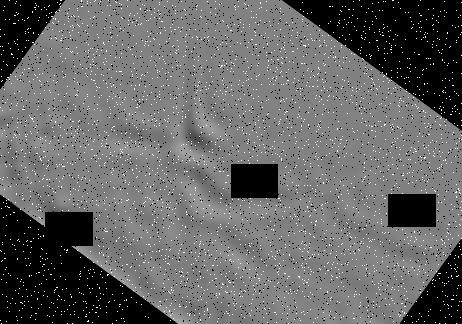Hyperbola: (74, 0, 452, 313), (203, 302, 283, 324), (0, 104, 16, 178)
